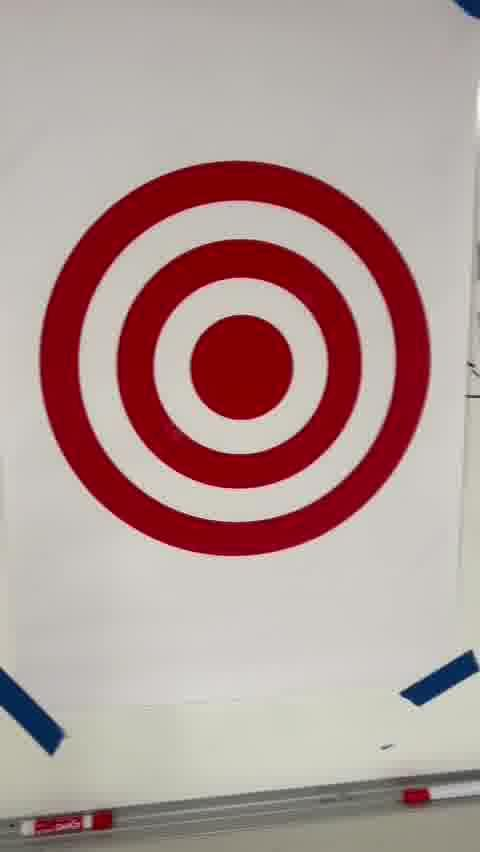target_red: (39, 162, 431, 555)
